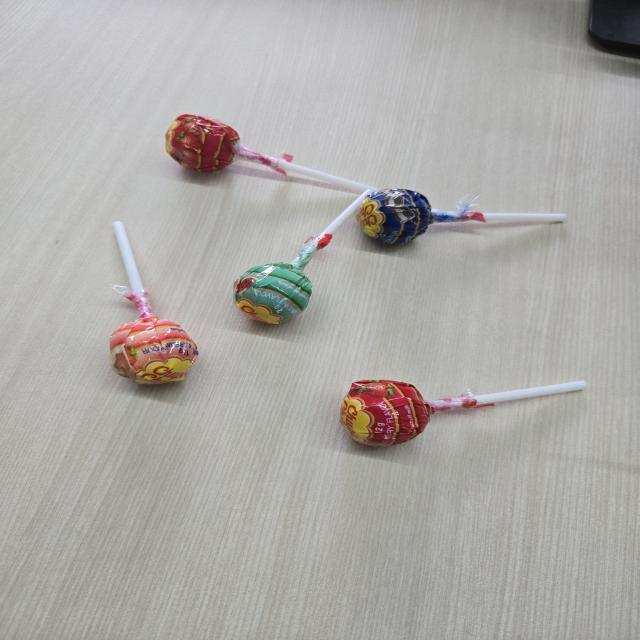lollipop: (335, 370, 593, 452), (230, 190, 372, 334), (94, 218, 208, 390), (166, 111, 377, 198), (358, 186, 568, 255)
